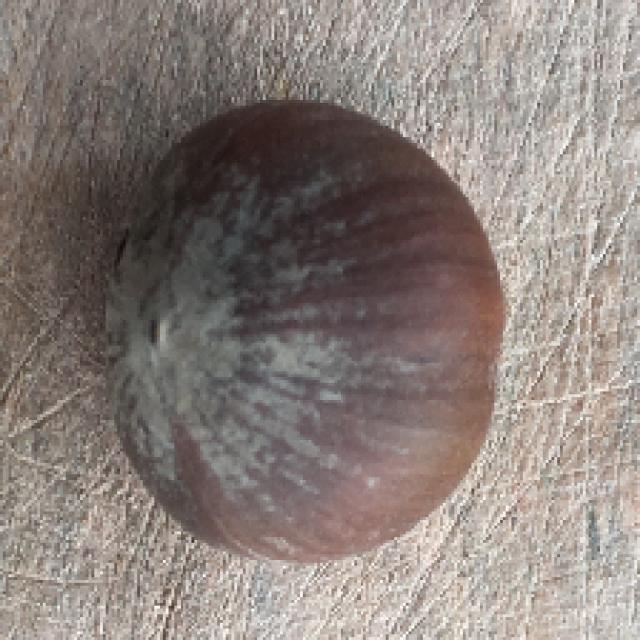DamagedHazelnut: (103, 100, 508, 565)
